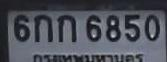0: (144, 14, 159, 40)
5: (124, 14, 139, 41)
6: (13, 14, 29, 41), (85, 14, 100, 41)
8: (105, 14, 119, 41)
A01: (33, 14, 52, 41), (57, 14, 75, 42)
